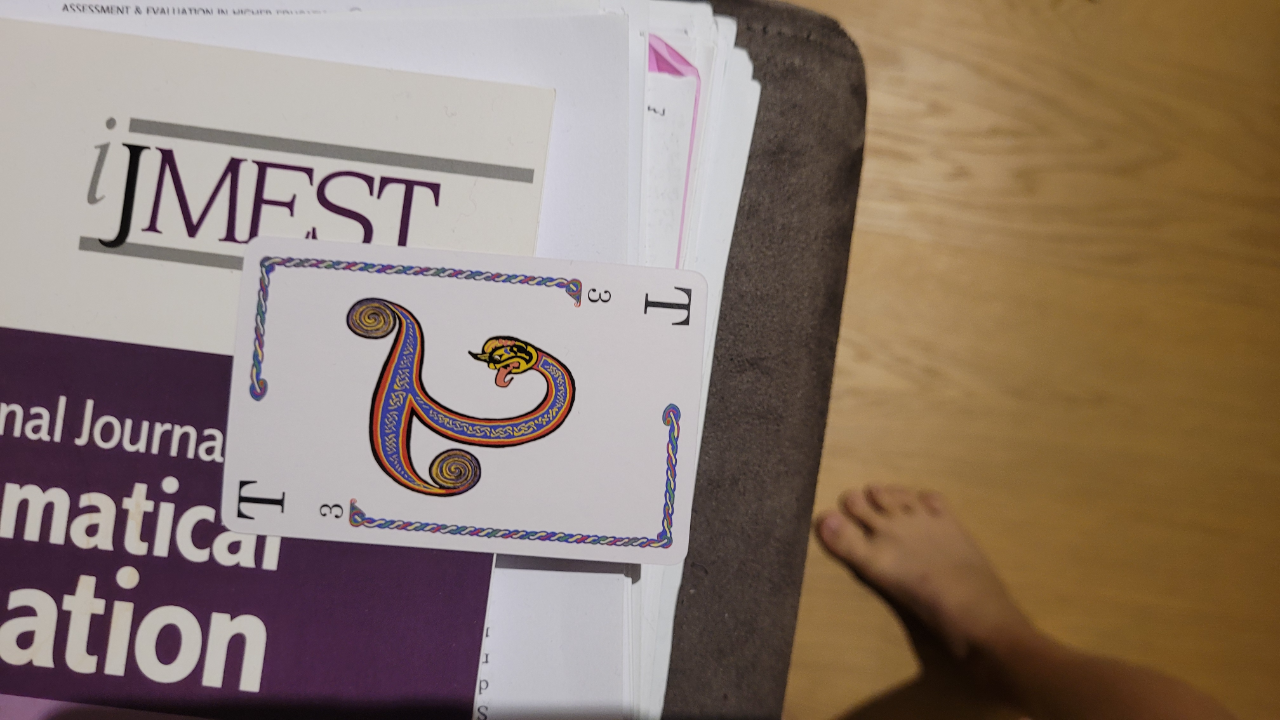quiddler_card: (206, 219, 718, 579)
